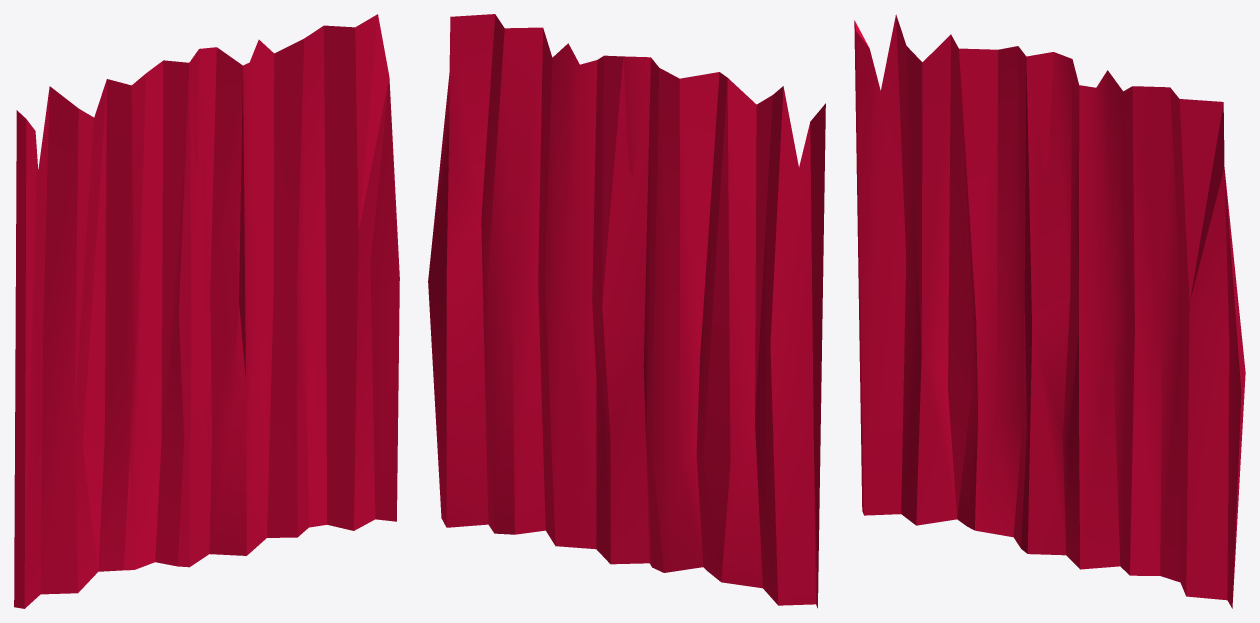
File: panel8-lod1.fbx
3 views of the same model, side by side, from view 1: azimuth 30°, elevation 25°; view 2: azimuth 150°, elevation 25°; view 3: azimuth 330°, elevation 25° (orthographic).
Visible parts, largest first — view 1: panel8-lod1; view 2: panel8-lod1; view 3: panel8-lod1.
Part boxes in pixels (x1,y1,x2,y2): panel8-lod1: (14,14,399,608); panel8-lod1: (428,14,825,608); panel8-lod1: (854,14,1245,608).
Size of the model in its own units: 0.5107 by 0.6481 by 0.0499.
